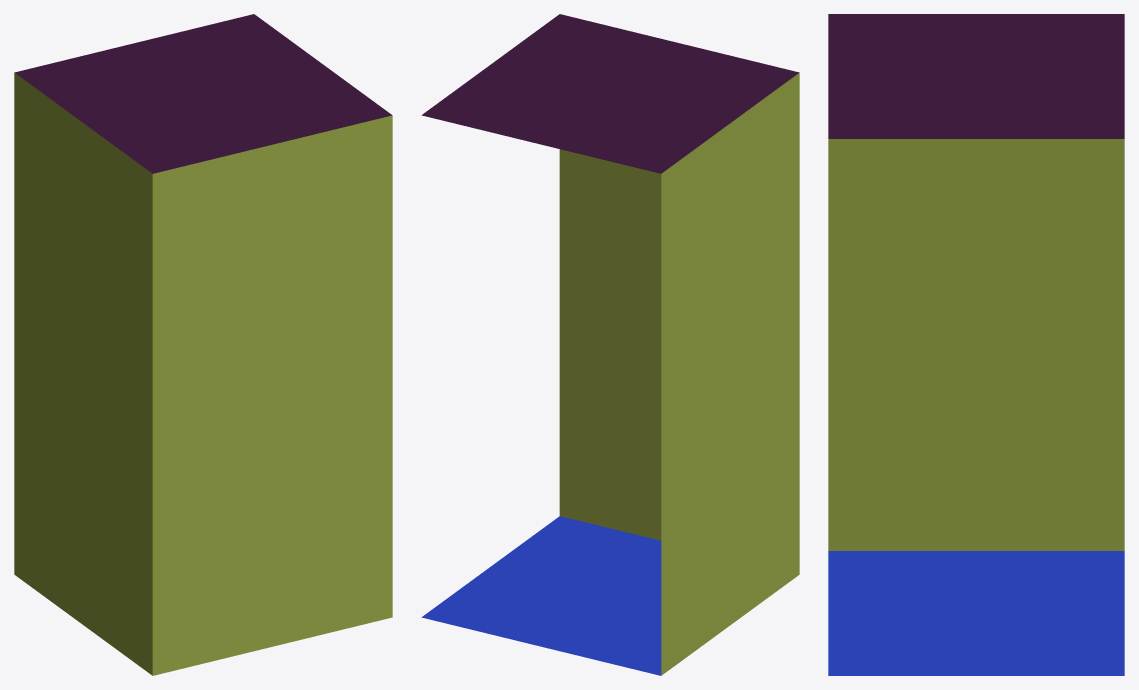
The model's file is ModuleSC_D_corner04.FBX.
The picture shows the model from 3 angles, left to right: view 1: azimuth 30°, elevation 25°; view 2: azimuth 150°, elevation 25°; view 3: azimuth 270°, elevation 25°; orthographic projection. The views are drawn at different scales.
Parts seen in each view (by area): view 1: ModuleSc_B_wall_05, ModuleSc_B_roof_03; view 2: ModuleSc_B_wall_05, ModuleSc_B_roof_03, ModuleSC_B_floor_0907; view 3: ModuleSc_B_wall_05, ModuleSC_B_floor_0907, ModuleSc_B_roof_03.
Boxes of the visible parts, <box> form: ModuleSc_B_wall_05: <box>14,73,392,675</box>; ModuleSc_B_roof_03: <box>14,14,392,173</box>; ModuleSc_B_wall_05: <box>559,73,799,675</box>; ModuleSc_B_roof_03: <box>421,14,799,173</box>; ModuleSC_B_floor_0907: <box>421,516,661,675</box>; ModuleSc_B_wall_05: <box>828,139,1124,550</box>; ModuleSC_B_floor_0907: <box>828,551,1124,675</box>; ModuleSc_B_roof_03: <box>828,14,1124,138</box>.
Size of the model in its own units: 39.37 by 78.74 by 39.37.
